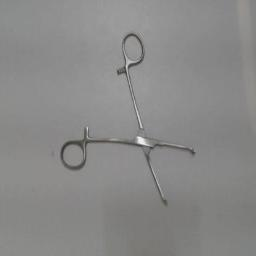Allis Tissue Forceps: (56, 28, 204, 214)
